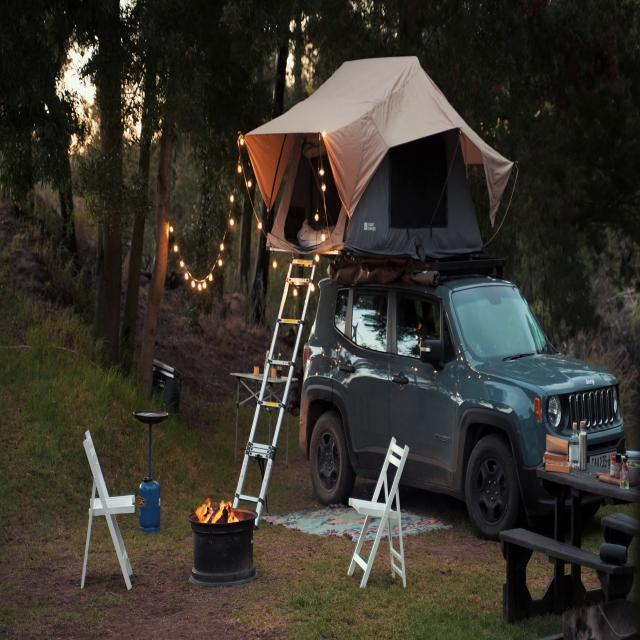Fire: (190, 488, 243, 528)
